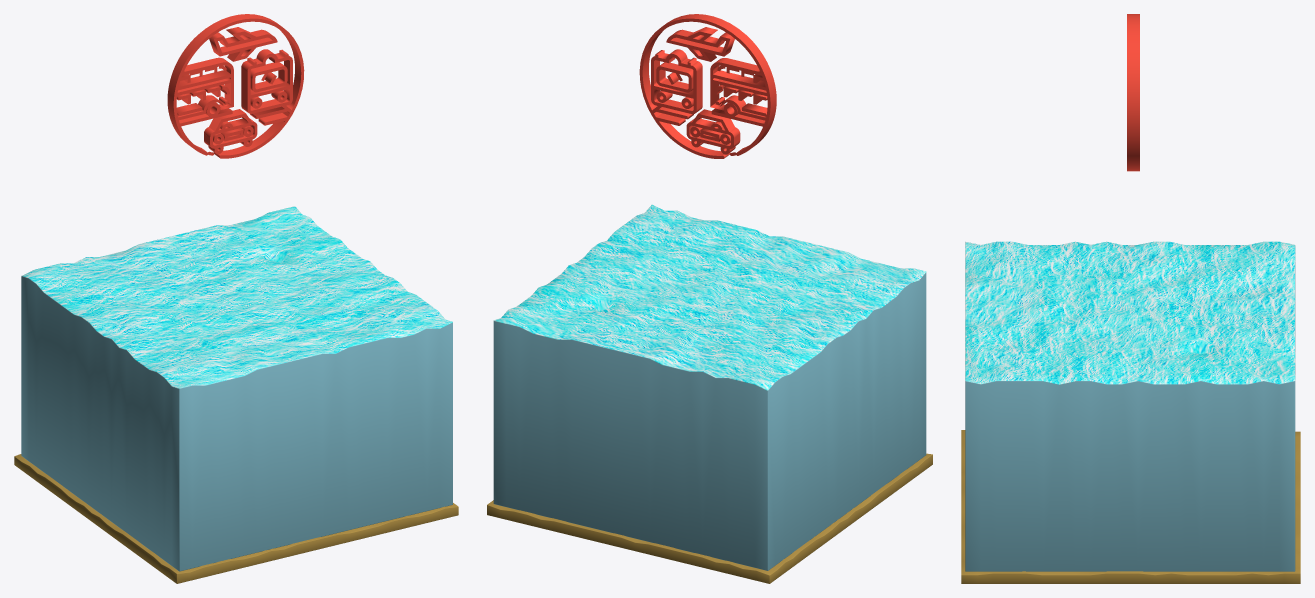
Rendered from water-lower-transport.glb.
3 views of the same model, side by side, from view 1: azimuth 30°, elevation 25°; view 2: azimuth 150°, elevation 25°; view 3: azimuth 270°, elevation 25° (orthographic). The views are drawn at different scales.
Parts seen in each view (by area): view 1: Sea, Curve.015, Sand; view 2: Sea, Curve.015, Sand; view 3: Sea, Sand, Curve.015.
Boxes of the visible parts, left/top/right/bottom form: Sea: left=21, top=206, right=452, bottom=571; Curve.015: left=167, top=14, right=304, bottom=158; Sand: left=14, top=454, right=458, bottom=583; Sea: left=493, top=204, right=926, bottom=570; Curve.015: left=639, top=14, right=776, bottom=158; Sand: left=487, top=453, right=932, bottom=583; Sea: left=965, top=241, right=1295, bottom=571; Sand: left=961, top=430, right=1300, bottom=583; Curve.015: left=1127, top=14, right=1139, bottom=171.
Size of the model in its own units: 107 by 171 by 107.
4 materials, 1 textured.
